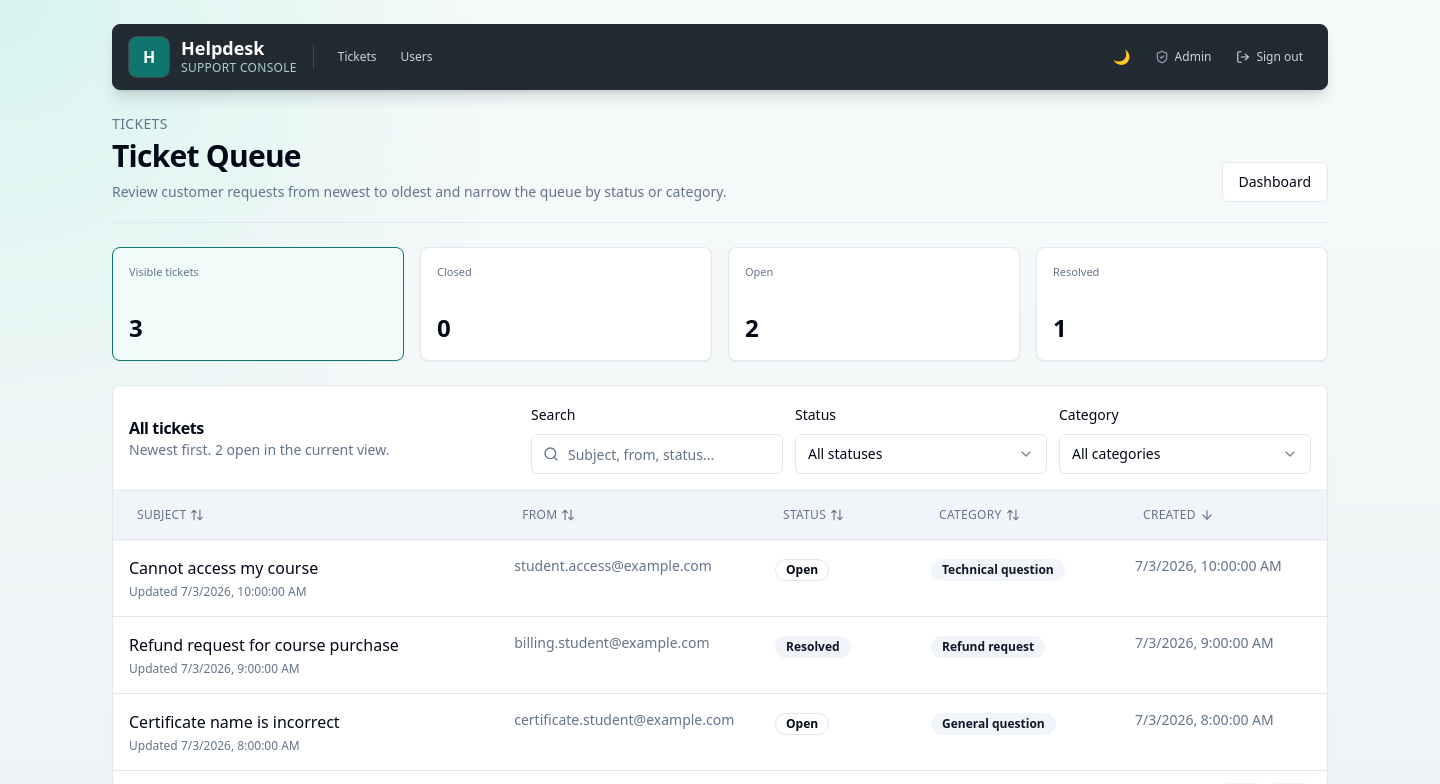
Scenario: Tickets UI › clicking a ticket subject opens the ticket details page
This screenshot has width=1440, height=784.
Click the link "Cannot access my course": (224, 568) [129,557,318,579]
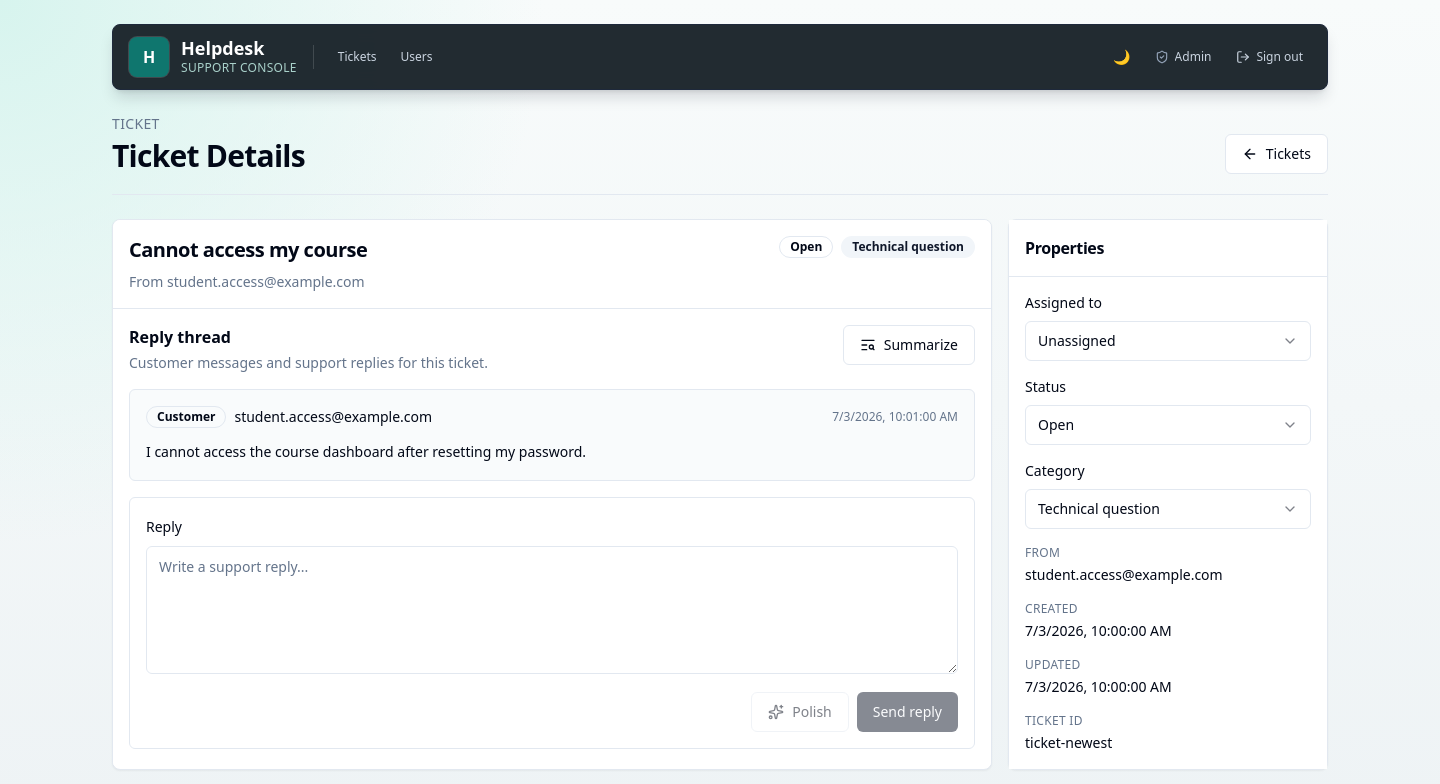
Result: the heading "Ticket Details" is shown at [112,138,305,174]
Result: the text "student.access@example.com" in the row of "7/3/2026, 10:01:00 AM" is shown at [234,407,432,426]
Result: the text "course dashboard after resetting" is shown at [146,442,586,461]
